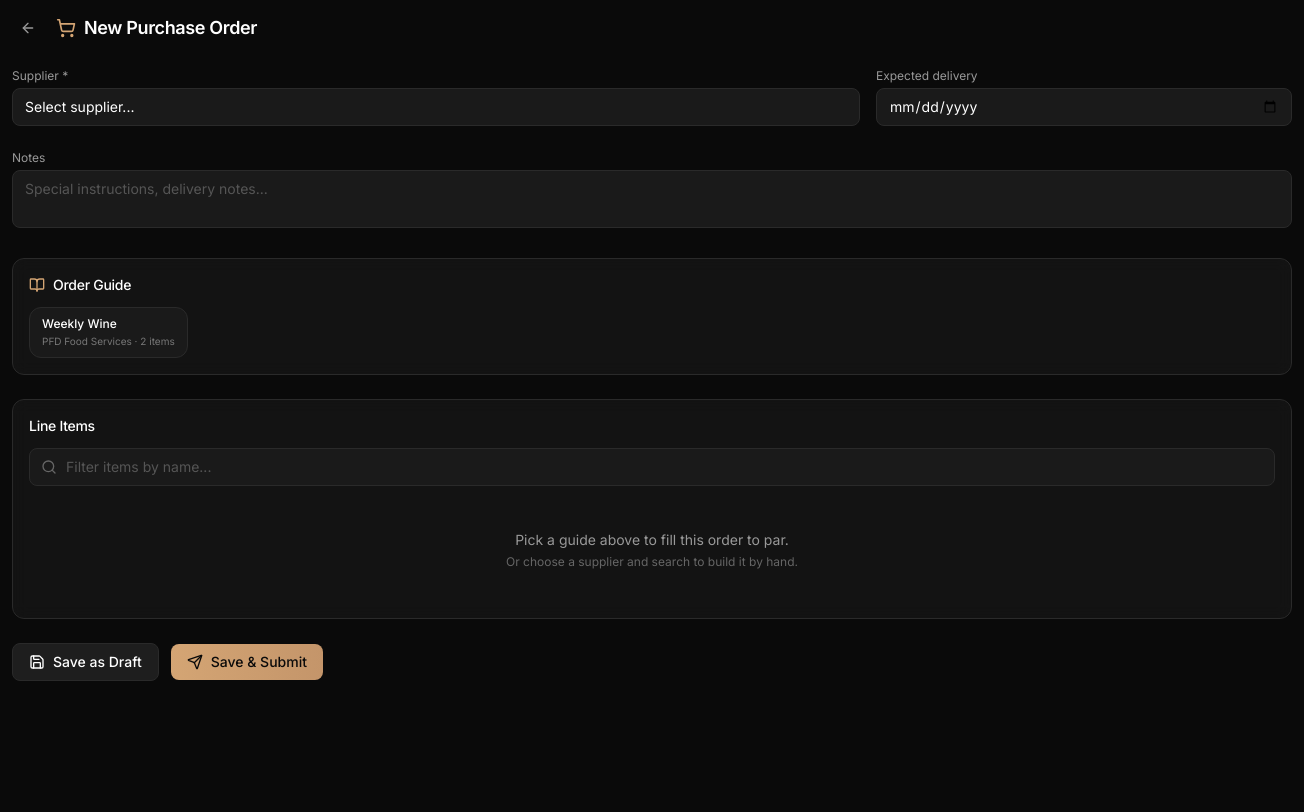
it: PurchaseOrderForm — order-guide-first › shows the catalogue once the operator actually searches
In the field with placeholder "Filter items by name...": (652,467) x1=29 y1=448 x2=1275 y2=486, type "spice"
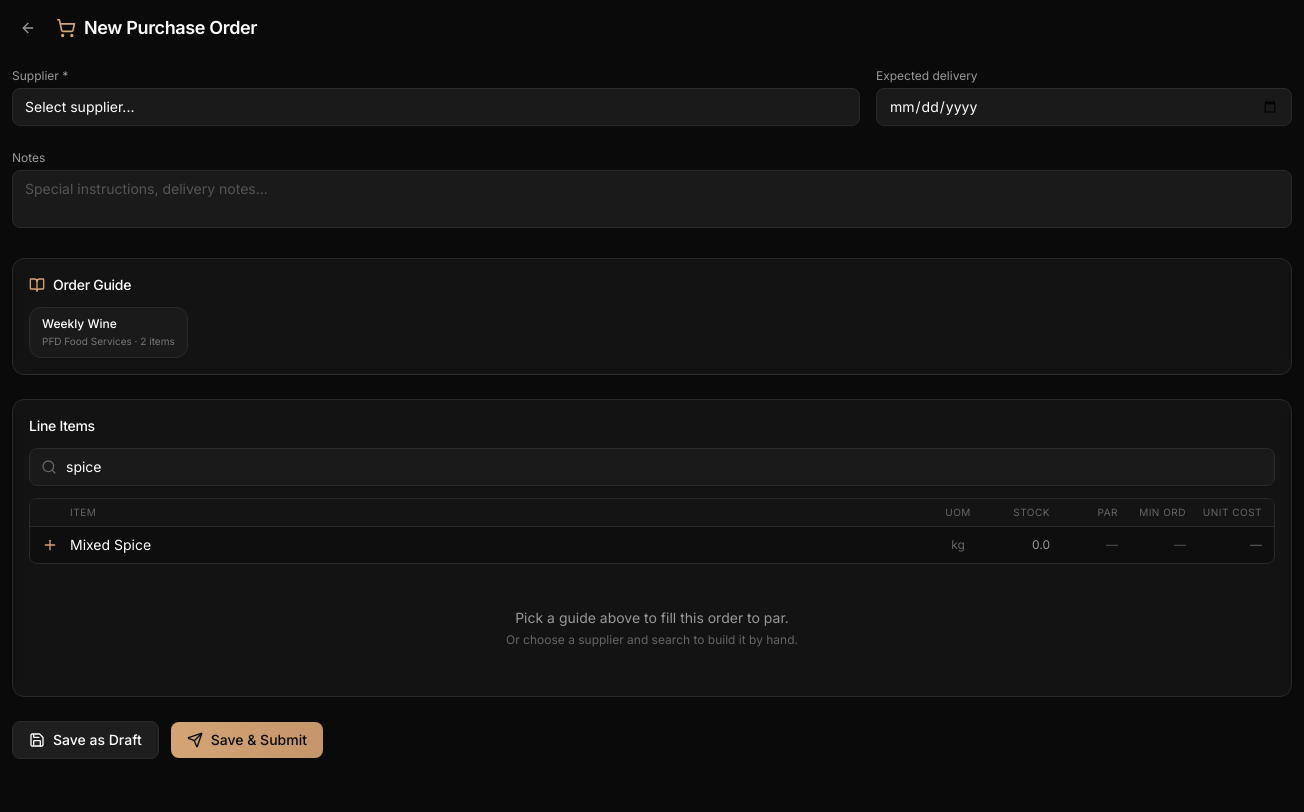
Expected: the text "Mixed Spice" is shown, x1=70 y1=536 x2=151 y2=553
Expected: the text "Min Ord" is shown, x1=1139 y1=506 x2=1186 y2=518
